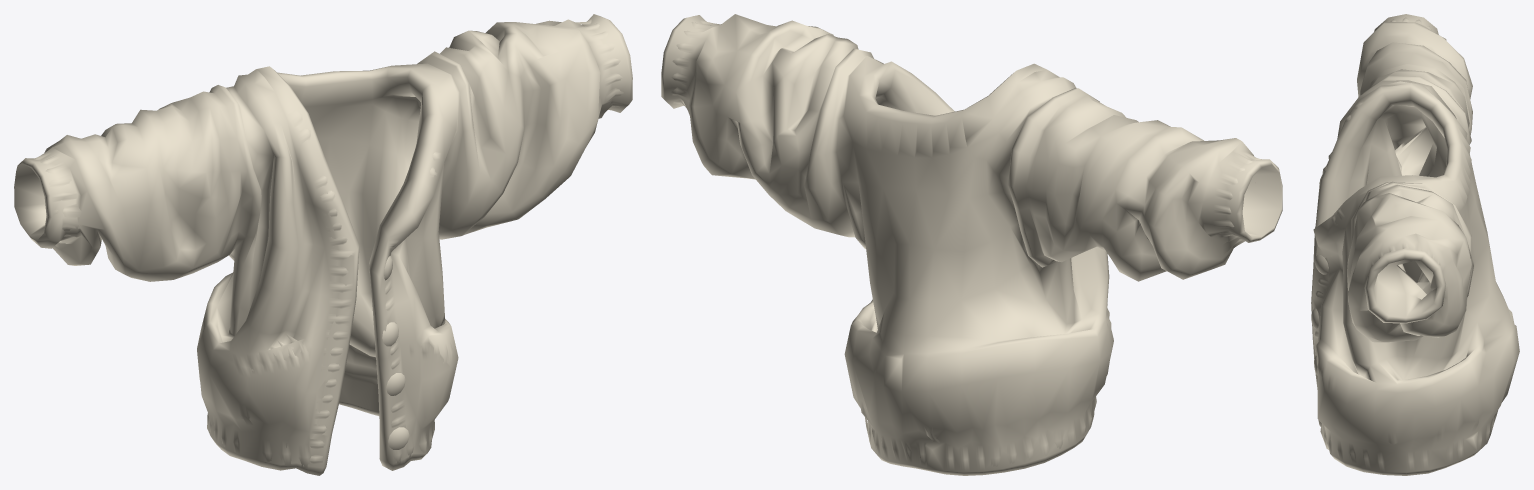
Rendered from cardigan-detail-only.glb.
3 renders of one model, left to right at view 1: azimuth 30°, elevation 25°; view 2: azimuth 150°, elevation 25°; view 3: azimuth 270°, elevation 25°, orthographic. The views are drawn at different scales.
Visible parts, largest first — view 1: Little_Cardigan, Little_Cardigan_Ribbing, Little_Cardigan_Buttons; view 2: Little_Cardigan, Little_Cardigan_Ribbing; view 3: Little_Cardigan, Little_Cardigan_Ribbing, Little_Cardigan_Buttons.
Boxes of the visible parts, <box> form: Little_Cardigan: <box>14,14,632,475</box>; Little_Cardigan_Ribbing: <box>33,19,630,468</box>; Little_Cardigan_Buttons: <box>382,256,409,449</box>; Little_Cardigan: <box>661,14,1282,475</box>; Little_Cardigan_Ribbing: <box>662,19,1262,471</box>; Little_Cardigan: <box>1311,14,1519,475</box>; Little_Cardigan_Ribbing: <box>1314,17,1497,471</box>; Little_Cardigan_Buttons: <box>1311,255,1328,427</box>.
Size of the model in its own units: 2.77 by 1.77 by 0.997.
